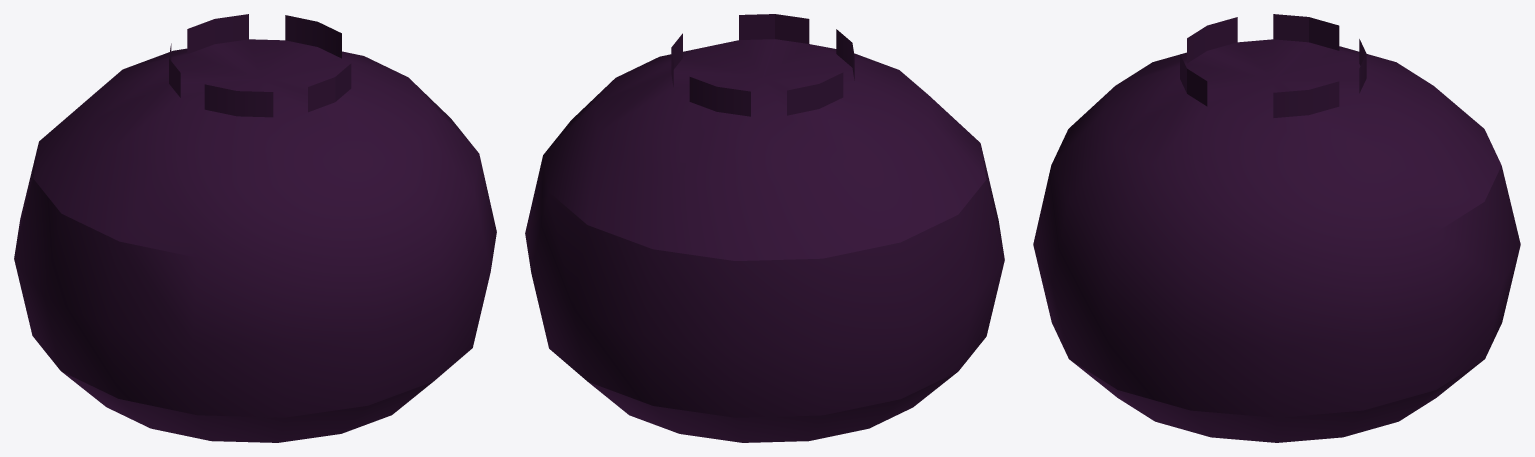
File: cakeDecorGlazeONE.glb
3 views of the same model, side by side, from view 1: azimuth 30°, elevation 25°; view 2: azimuth 150°, elevation 25°; view 3: azimuth 270°, elevation 25° (orthographic).
Visible parts, largest first — view 1: Sphere; view 2: Sphere; view 3: Sphere.
Part boxes in pixels (<box>): Sphere: <box>14,14,496,442</box>; Sphere: <box>525,14,1004,442</box>; Sphere: <box>1033,14,1520,442</box>.
Bounding box in the file's own units: 0.1379 × 0.1095 × 0.1379.
